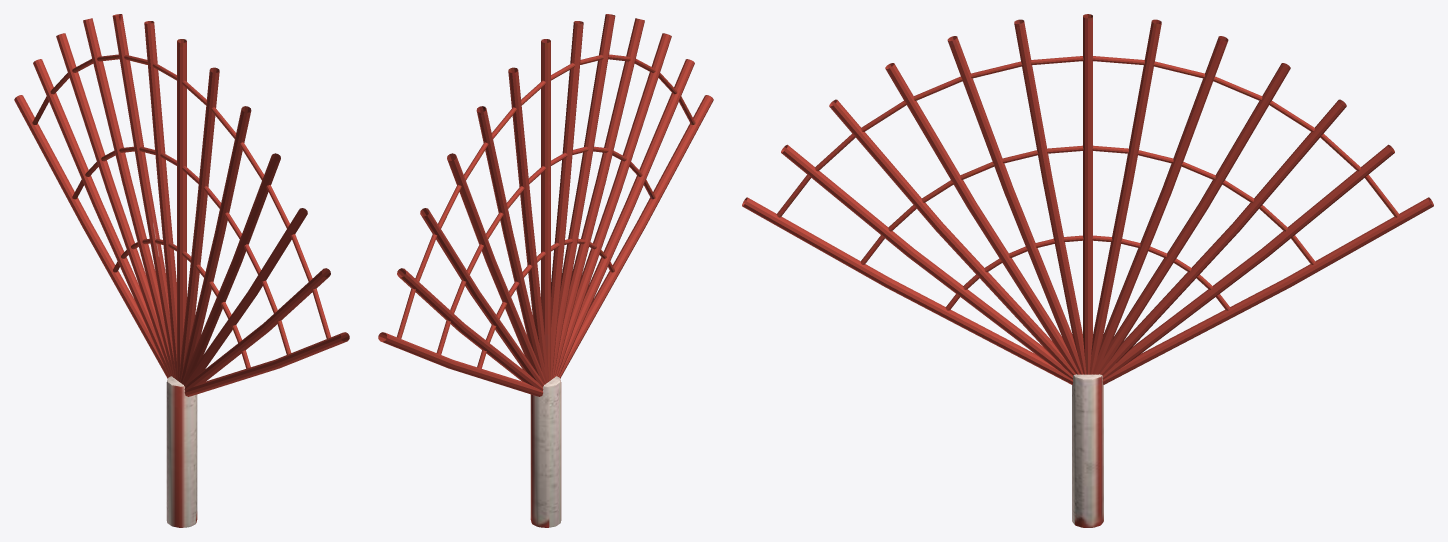
Rendered from fan.glb.
The picture shows the model from 3 angles, left to right: view 1: azimuth 30°, elevation 25°; view 2: azimuth 150°, elevation 25°; view 3: azimuth 270°, elevation 25°; orthographic projection. The views are drawn at different scales.
Parts seen in each view (by area): view 1: stalk, rib8, rib9, rib10, rib7, rib11, rib6, rib5, rib12, rib4, rib3, web0.55 (+5 smaller); view 2: stalk, rib4, rib3, rib2, rib5, rib1, rib6, rib7, rib0, rib8, rib9, web0.55 (+5 smaller); view 3: stalk, rib0, rib12, rib1, rib11, rib2, rib10, rib3, rib9, rib4, rib8, rib5 (+5 smaller).
Part boxes in pixels (x1,y1,x2,y2): stalk: (166, 376, 197, 527); rib8: (112, 14, 175, 378); rib9: (83, 18, 174, 377); rib10: (56, 33, 172, 376); rib7: (144, 21, 177, 379); rib11: (33, 59, 170, 376); rib6: (177, 39, 186, 380); rib5: (178, 67, 219, 381); rib12: (14, 95, 168, 378); rib4: (180, 106, 251, 383); rib3: (182, 153, 280, 384); web0.55: (32, 54, 330, 339); stalk: (530, 376, 561, 527); rib4: (552, 14, 615, 378); rib3: (553, 18, 644, 377); rib2: (555, 33, 671, 376); rib5: (550, 21, 583, 379); rib1: (557, 59, 694, 376); rib6: (541, 39, 550, 380); rib7: (508, 67, 549, 381); rib0: (559, 95, 713, 378); rib8: (476, 106, 547, 383); rib9: (447, 153, 545, 384); web0.55: (397, 54, 695, 339); stalk: (1072, 374, 1103, 527); rib0: (742, 197, 1073, 384); rib12: (1102, 197, 1433, 384); rib1: (781, 144, 1073, 379); rib11: (1102, 144, 1394, 379); rib2: (829, 99, 1075, 375); rib10: (1100, 99, 1346, 375); rib3: (885, 63, 1079, 374); rib9: (1096, 63, 1290, 374); rib4: (947, 36, 1083, 374); rib8: (1092, 36, 1228, 374); rib5: (1014, 19, 1086, 374).
Size of the model in its own units: 0.0476 by 0.845 by 1.05.
Materials: 1 (1 with a texture image).
